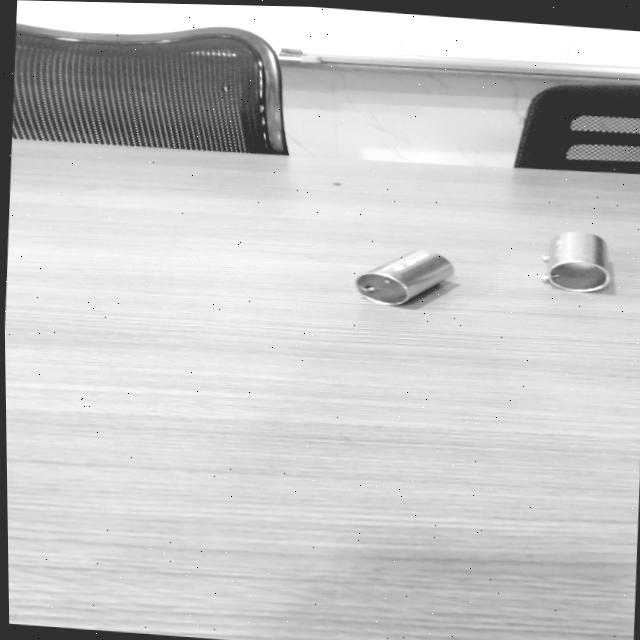Co_Lon: (545, 230, 608, 292)
Co_Nho: (351, 238, 458, 318)
